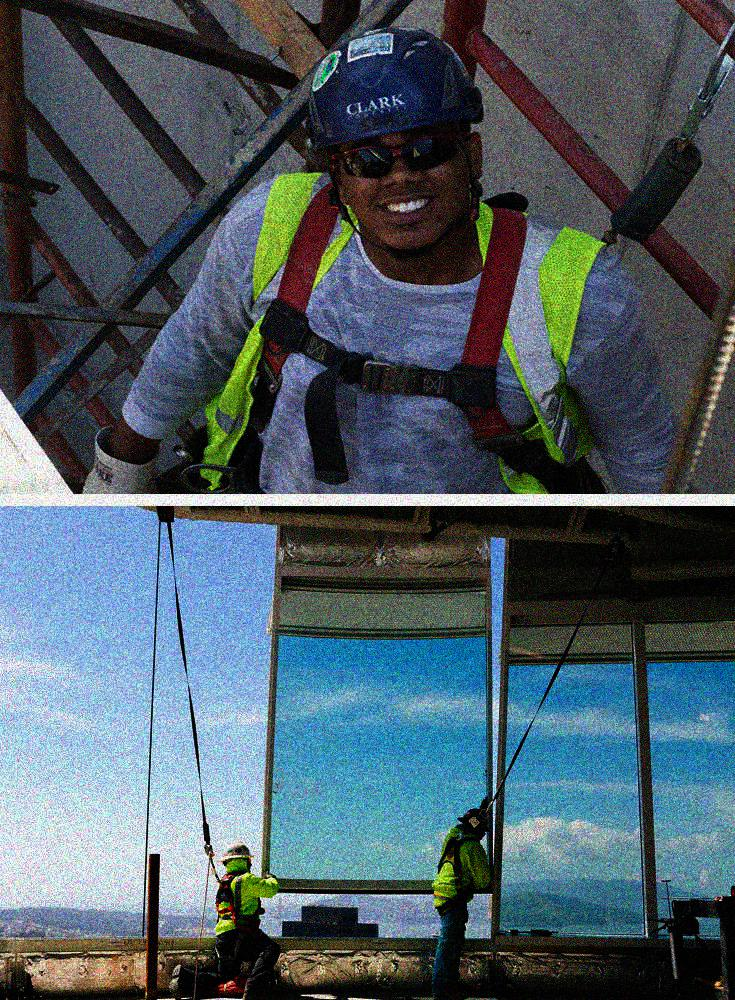helmet: (303, 22, 486, 263), (220, 838, 256, 874), (460, 804, 494, 842)
